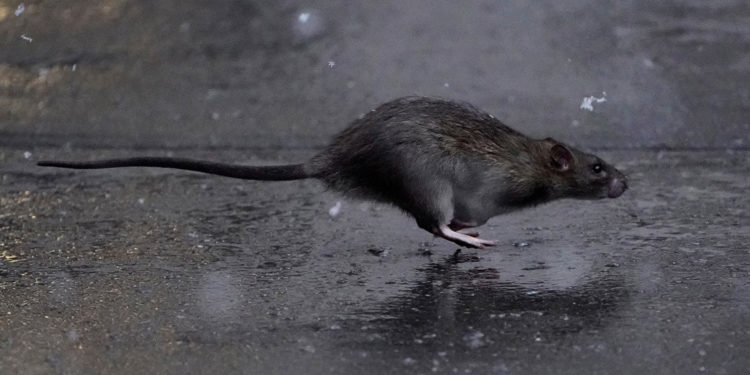rat: (28, 79, 645, 261)
